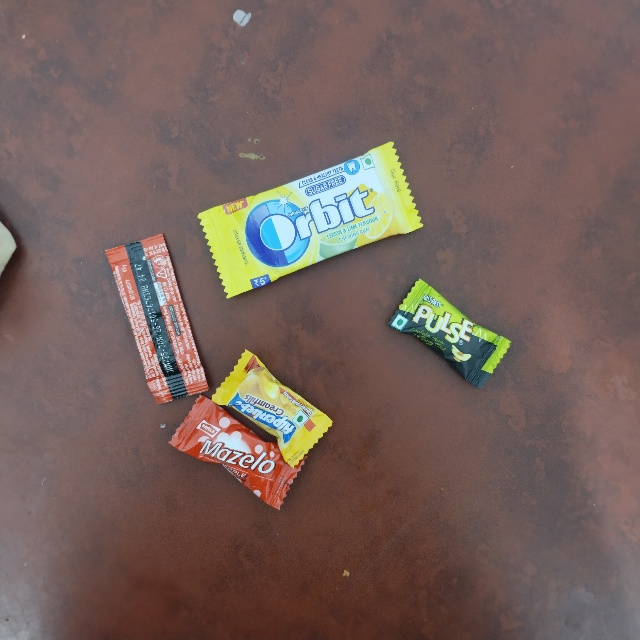Alpenlibe Creamfills: (245, 349, 362, 409)
Mazelo: (204, 385, 337, 449)
Nescafe Coffee: (104, 250, 172, 418)
Orbit: (186, 208, 411, 309)
Pulse: (419, 275, 536, 335)
